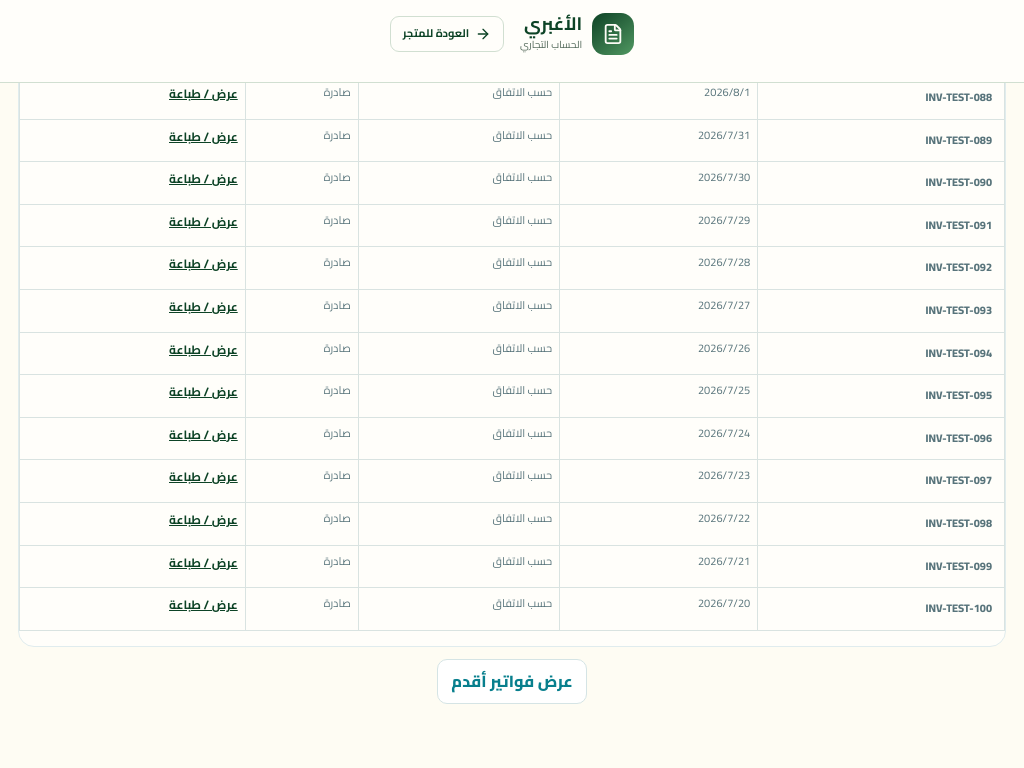
Test: customer invoices real route acceptance › loads customer invoices in stable cursor pages instead of stopping at 100
(page scrolled)
Expected: the text "INV-TEST-101" is not shown
Click the button "عرض فواتير أقدم": (512, 682) 437,659 -> 587,704
(page scrolled)
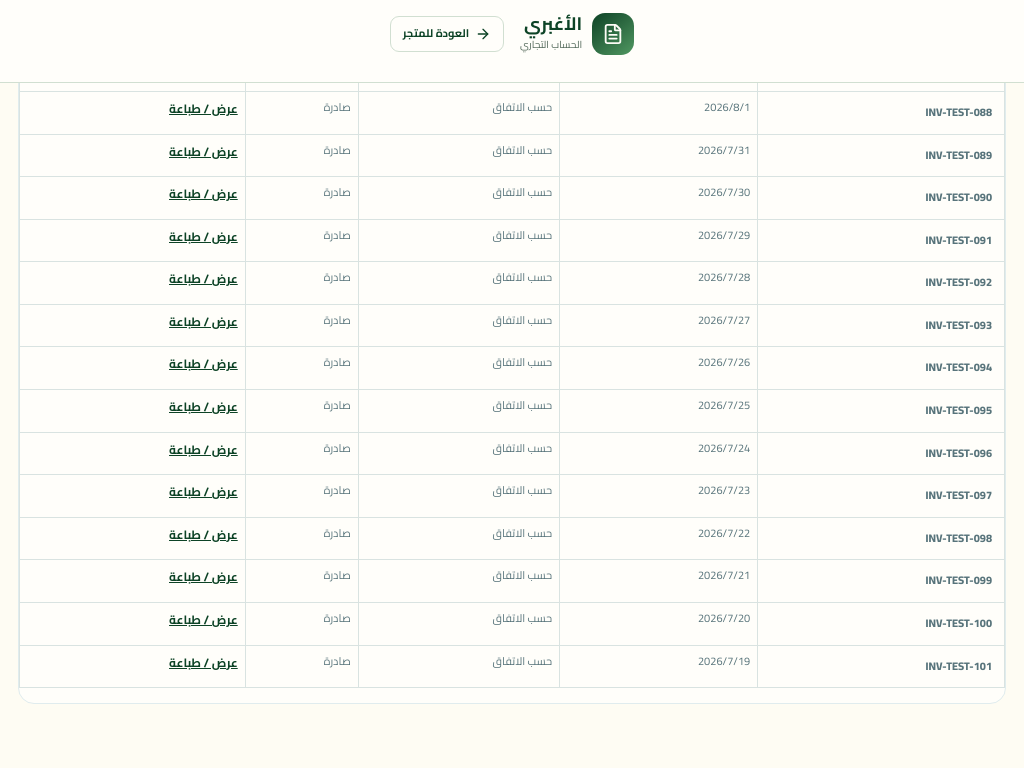
Expected: the text "INV-TEST-101" is shown, 758,645 -> 1004,688
Expected: the text "عرض فواتير أقدم" is gone
